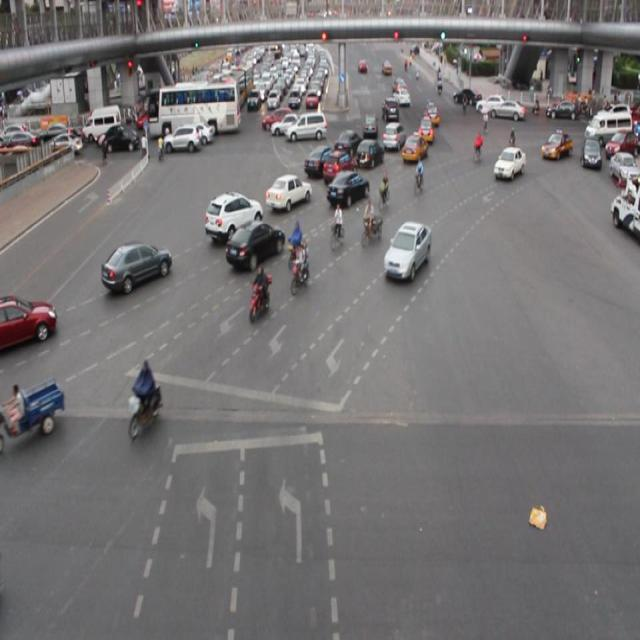car: (101, 238, 173, 293), (382, 219, 432, 281), (1, 292, 57, 347), (225, 217, 284, 268), (205, 190, 262, 238), (266, 172, 311, 212), (326, 169, 369, 208), (492, 144, 526, 182), (304, 142, 337, 176), (322, 148, 354, 183), (539, 130, 572, 162), (354, 137, 383, 172), (334, 128, 363, 158), (400, 132, 426, 164), (381, 121, 406, 152)
